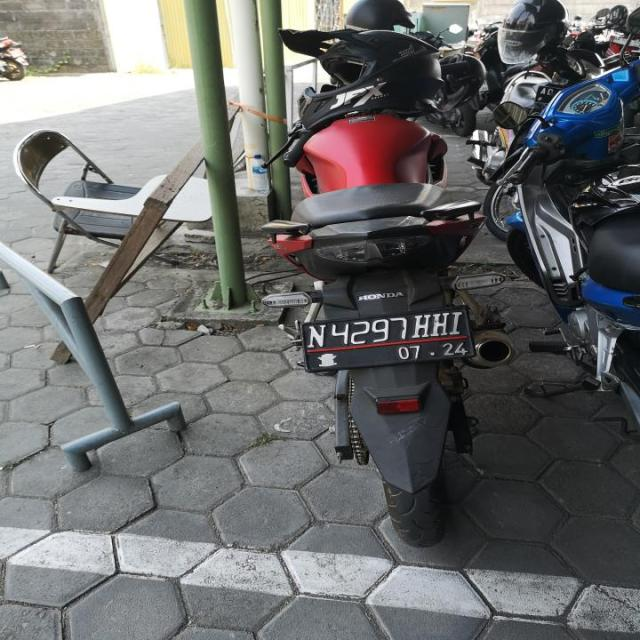License Plate: (302, 306, 478, 374)
